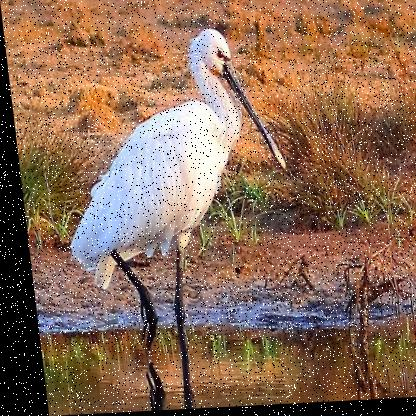Burung: (47, 27, 298, 352)
